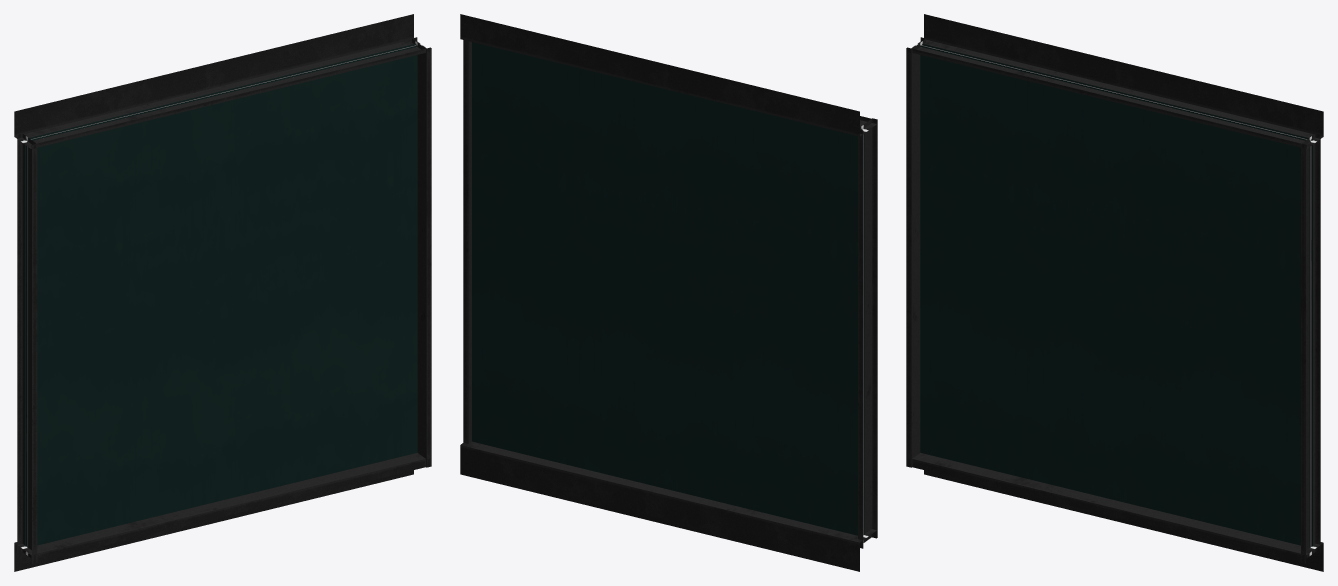
File: Window_A.fbx
3 renders of one model, left to right at view 1: azimuth 30°, elevation 25°; view 2: azimuth 150°, elevation 25°; view 3: azimuth 330°, elevation 25°, orthographic.
Parts seen in each view (by area): view 1: Glass, Window_A; view 2: Glass, Window_A; view 3: Glass, Window_A.
Part boxes in pixels (x1,y1,x2,y2): Glass: [25, 44, 417, 547]; Window_A: [14, 14, 431, 571]; Glass: [472, 42, 864, 535]; Window_A: [460, 14, 877, 571]; Glass: [920, 44, 1312, 547]; Window_A: [906, 14, 1323, 571].
Size of the model in its own units: 300 by 330 by 23.
